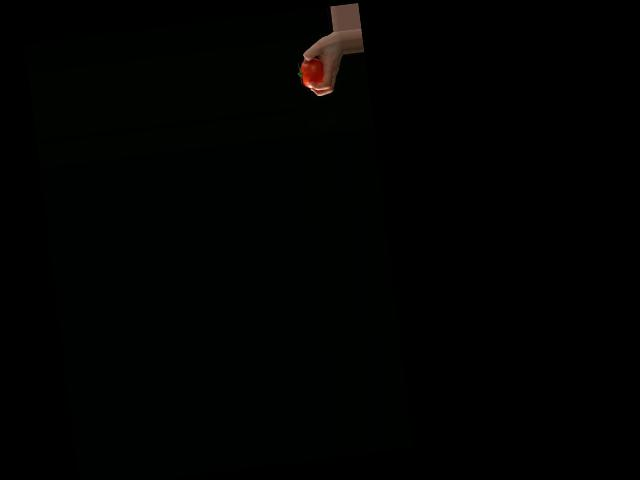tomato: (296, 57, 325, 88)
